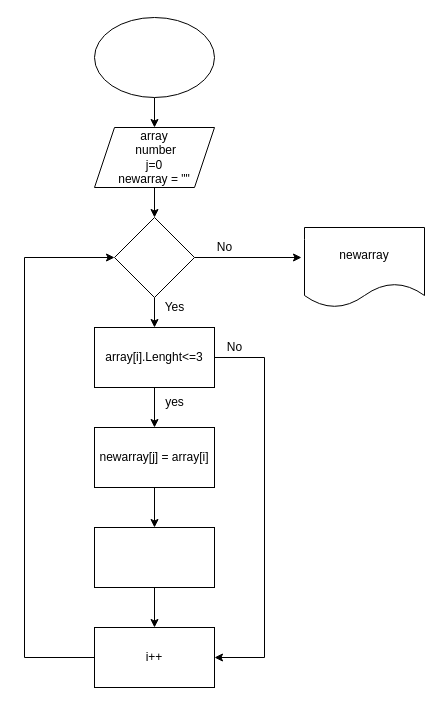
This 442x705 diagram has some shape labels left out. Each missing label, with the box of its shape:
i<number: (114, 216, 194, 298)
j++: (94, 526, 214, 588)
Start: (94, 16, 214, 98)
